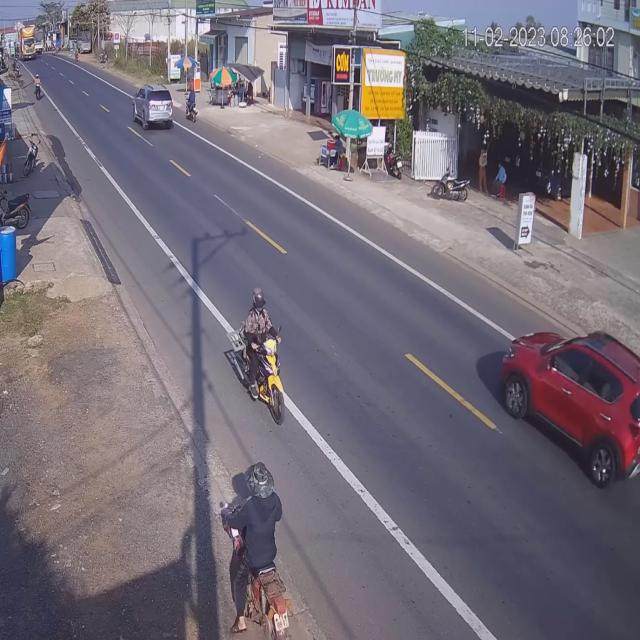car: (499, 332, 640, 491), (133, 83, 173, 133)
motorbike: (226, 460, 286, 640), (226, 290, 282, 426), (185, 91, 198, 123), (34, 74, 42, 103)
